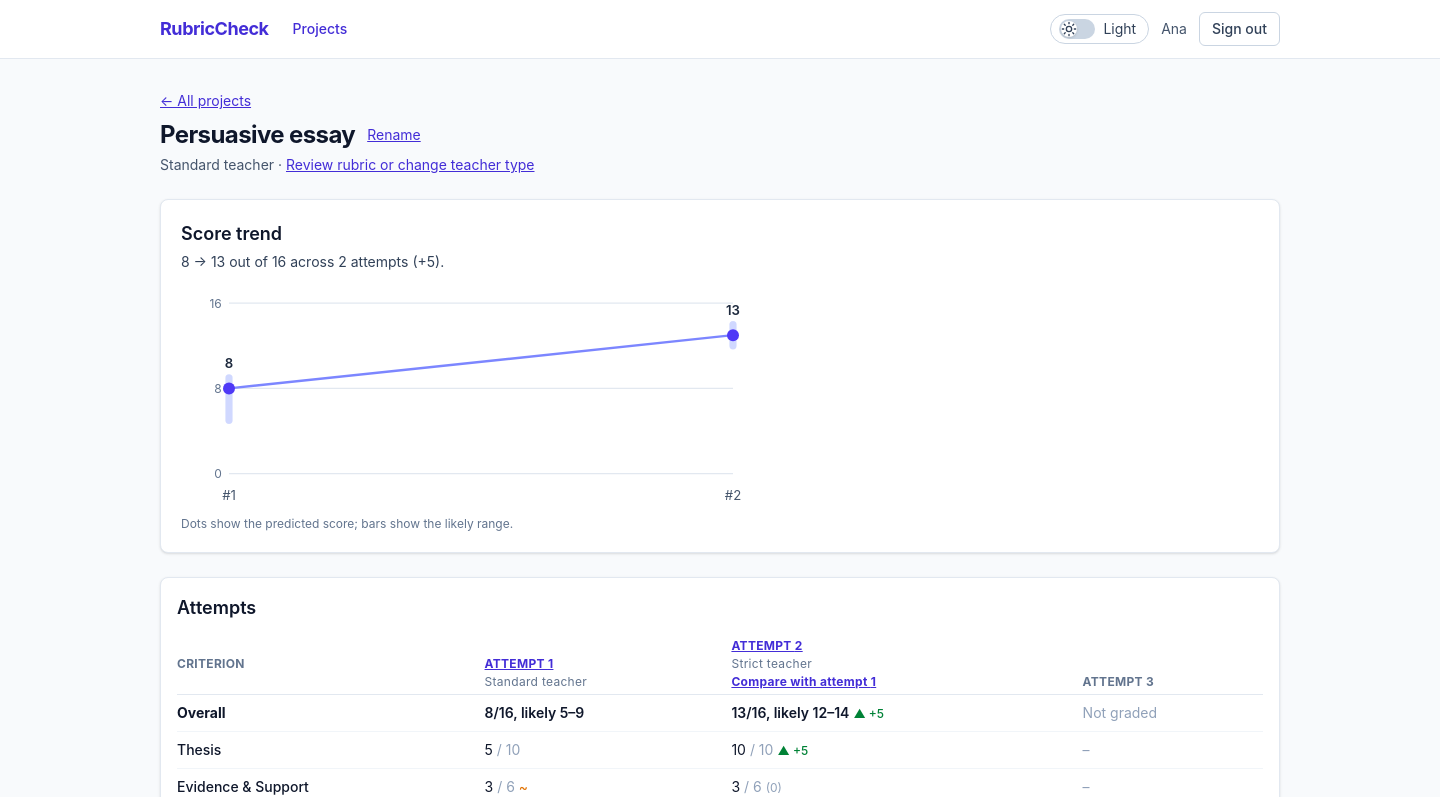
a project page › will not save an empty name
Click the button "Rename" at (394, 135), box [367,125,421,145]
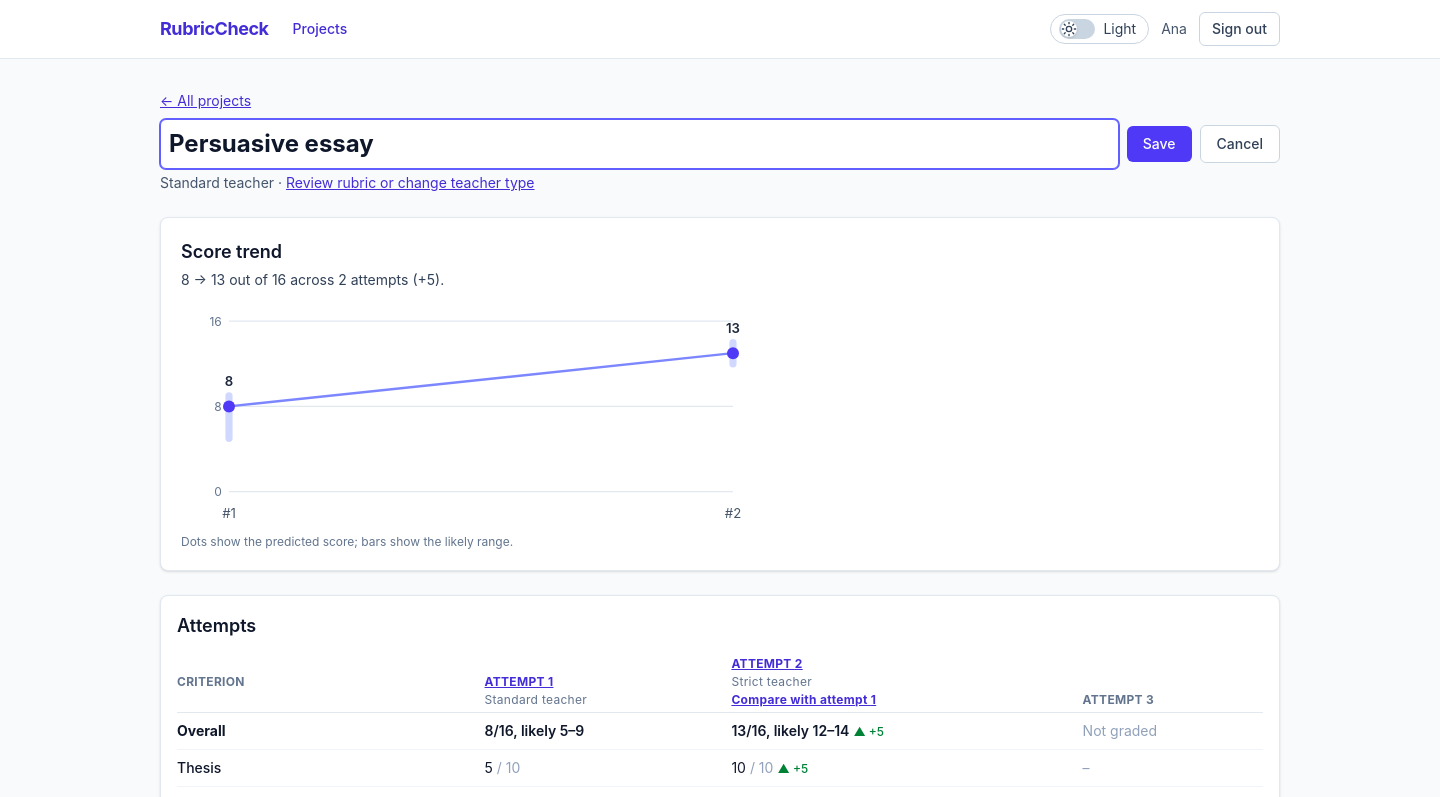
Clear the field named "Project name" at (639, 144), box [160,119,1119,169]
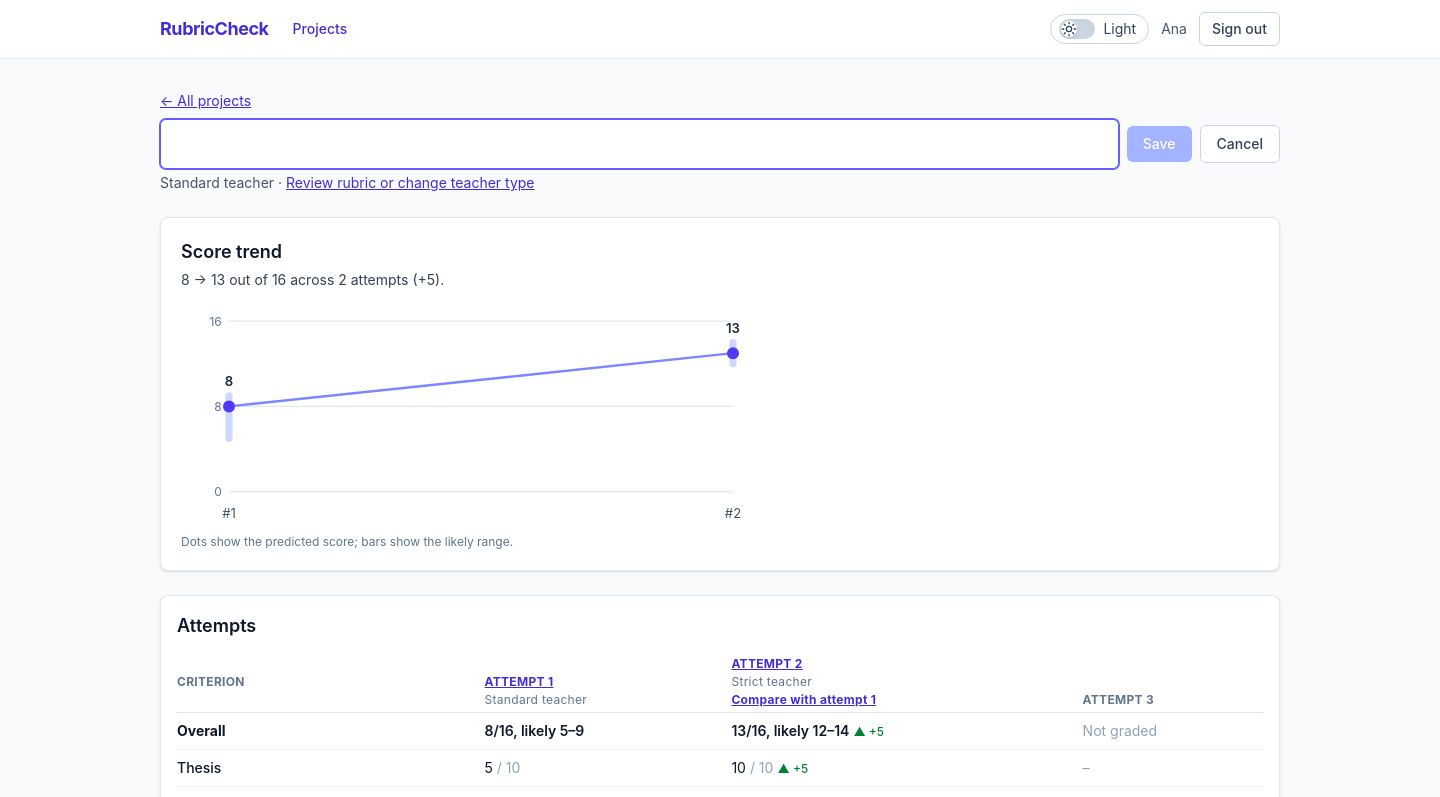
Now the button "Save" is disabled, box [1127,126,1192,162]
